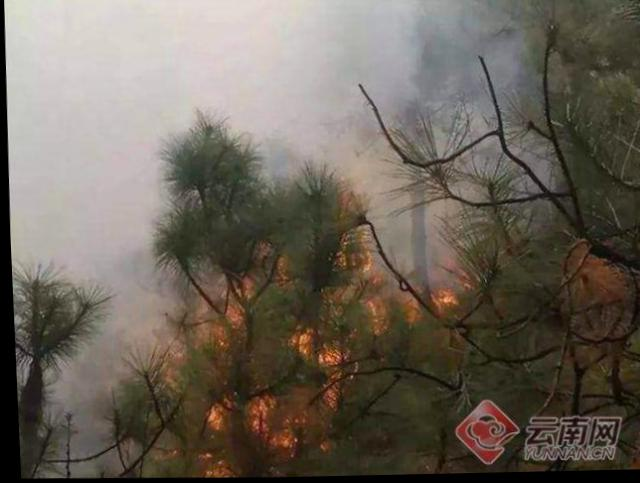fire: (160, 227, 457, 470)
